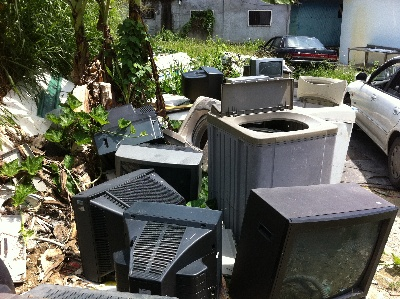washing_machine: (208, 103, 334, 231)
